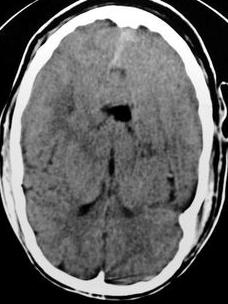Normal_Brain: (1, 1, 228, 304)
